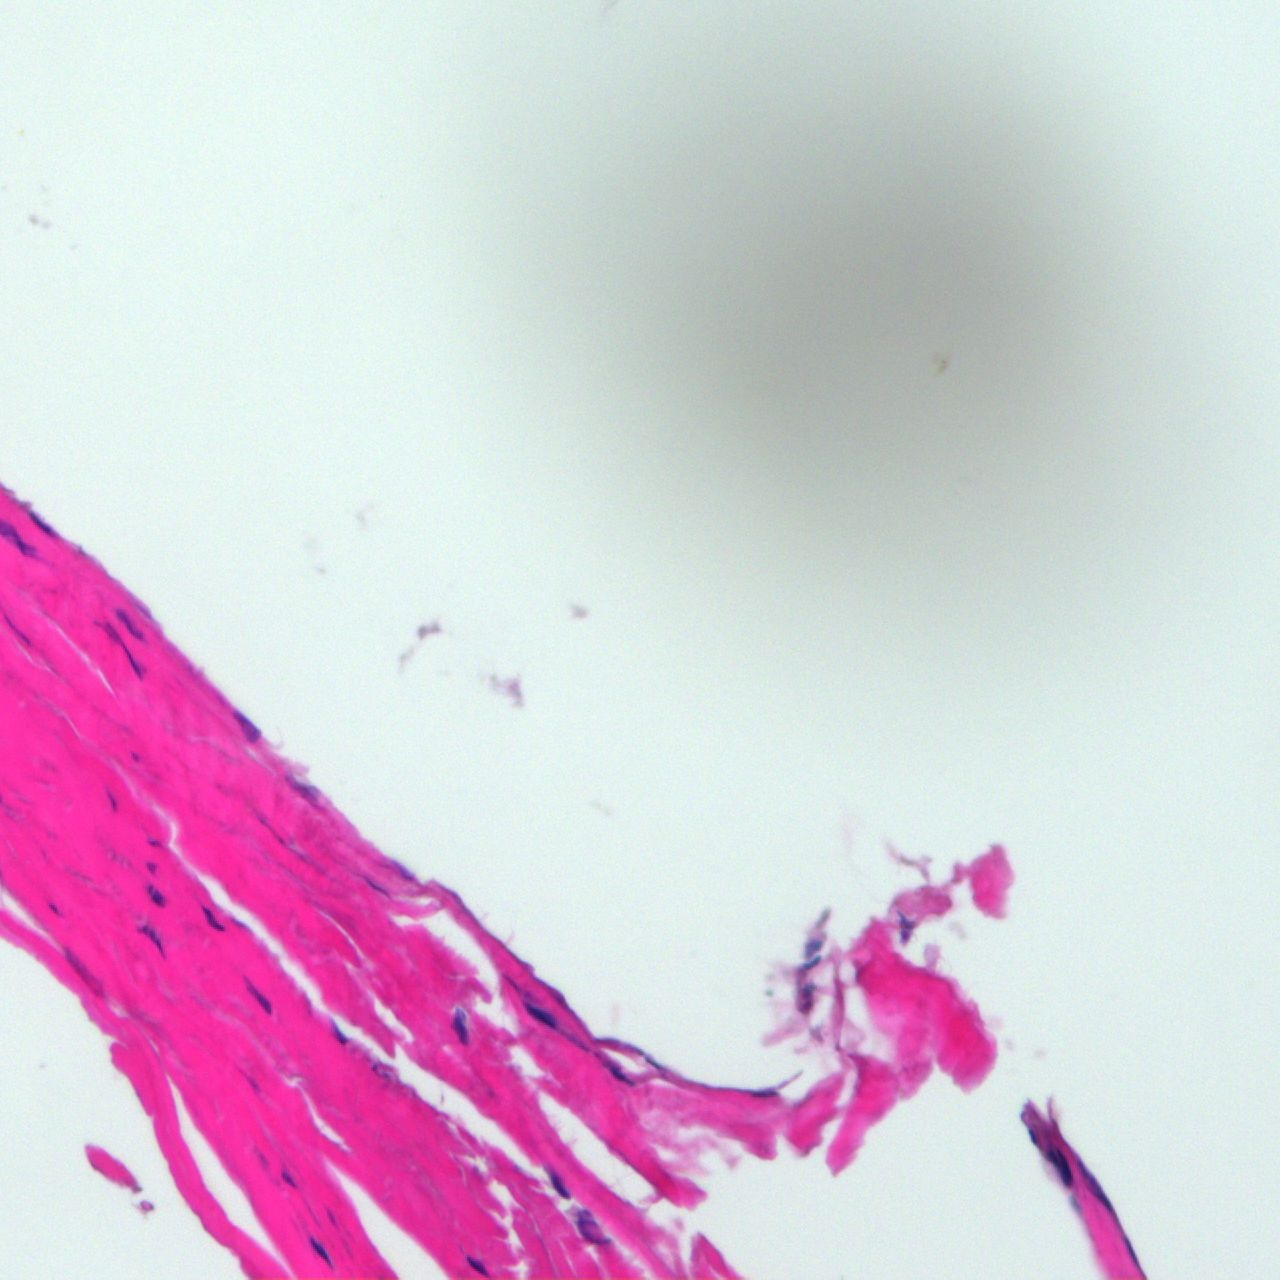nucleus-HE: (95, 614, 150, 685), (567, 1208, 613, 1253), (593, 1051, 639, 1092), (301, 1228, 340, 1272), (132, 918, 171, 958), (241, 974, 277, 1017), (523, 996, 561, 1033), (227, 706, 264, 742), (114, 605, 145, 644), (542, 1163, 572, 1201), (195, 903, 227, 937), (26, 509, 55, 538), (142, 881, 169, 911), (449, 1007, 468, 1047), (363, 874, 390, 901), (462, 1252, 490, 1278), (326, 1016, 349, 1046), (277, 1167, 299, 1191), (104, 787, 116, 813), (147, 837, 159, 846), (147, 860, 155, 873)
